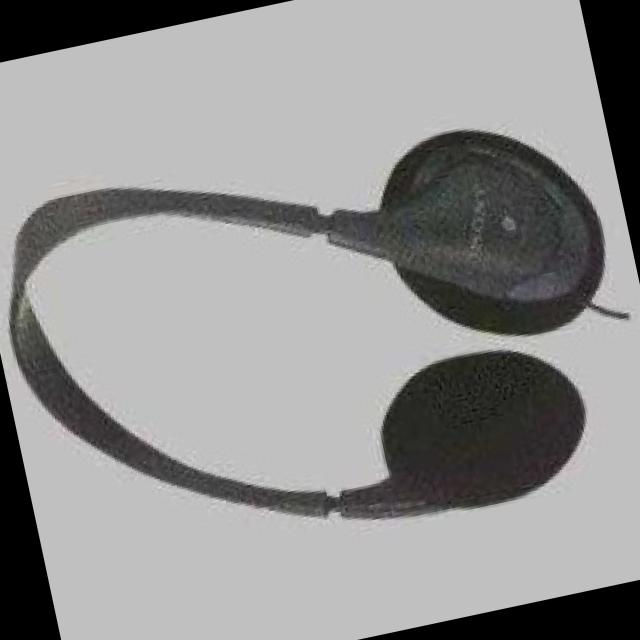kulaklik: (0, 72, 640, 609)
